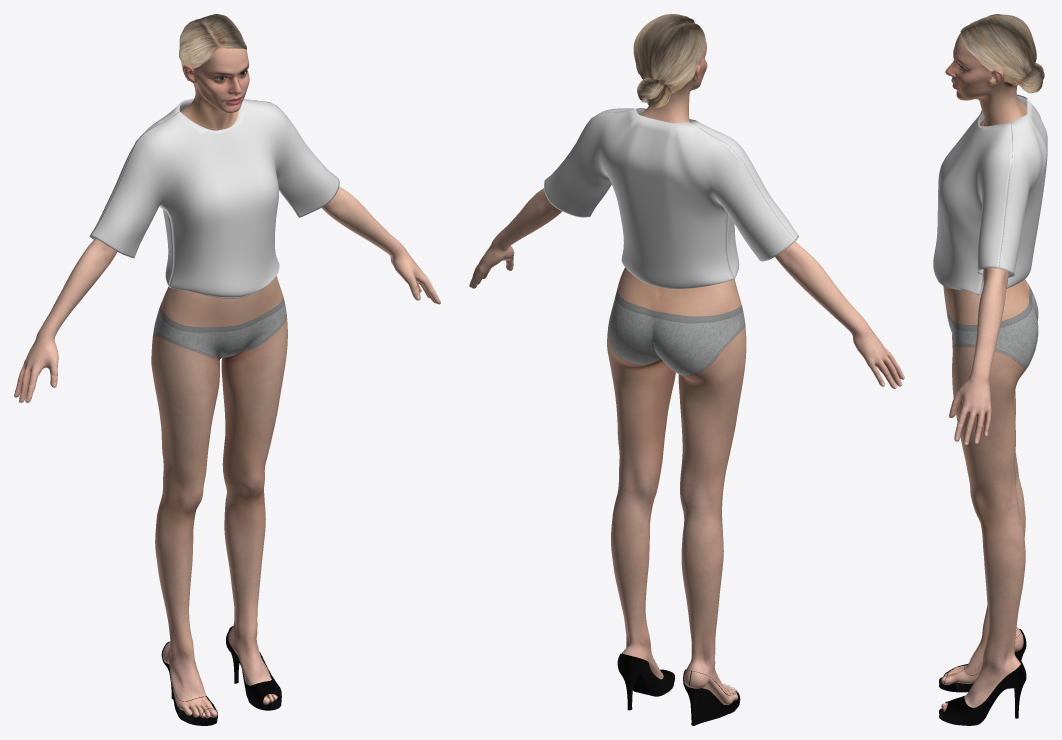
Rendered from femme_fixe.glb.
The picture shows the model from 3 angles, left to right: view 1: azimuth 30°, elevation 25°; view 2: azimuth 150°, elevation 25°; view 3: azimuth 270°, elevation 25°; orthographic projection. The views are drawn at different scales.
Visible parts, largest first — view 1: body, tshirt; view 2: body, tshirt; view 3: body, tshirt.
Boxes of the visible parts, x1,y1,x2,y2 form: body: [14, 14, 440, 725]; tshirt: [89, 98, 339, 298]; body: [469, 14, 904, 725]; tshirt: [544, 108, 798, 289]; body: [939, 14, 1044, 725]; tshirt: [933, 94, 1047, 295].
Bounding box in the file's own units: 2.89 × 4.47 × 0.6766.
Materials: 14 (14 with a texture image).
